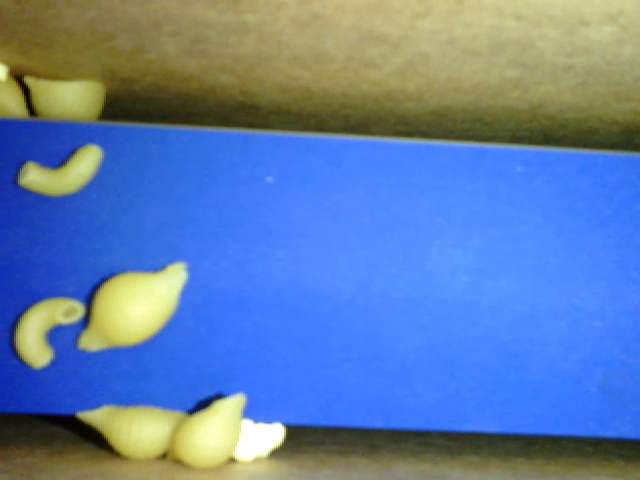elbow: (12, 294, 86, 373), (16, 142, 104, 199)
shell: (77, 258, 188, 355), (70, 404, 190, 464), (165, 390, 251, 470), (21, 74, 107, 134)
